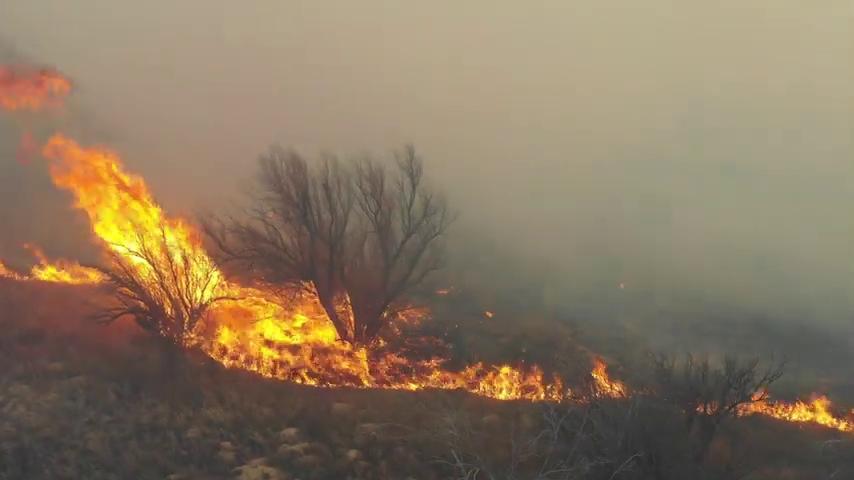forest_fire: (0, 134, 569, 399), (736, 393, 853, 430), (0, 66, 69, 111), (591, 360, 624, 396)
